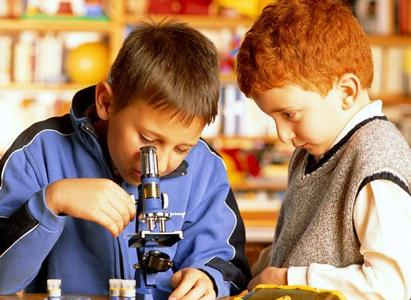person: (2, 22, 253, 300)
